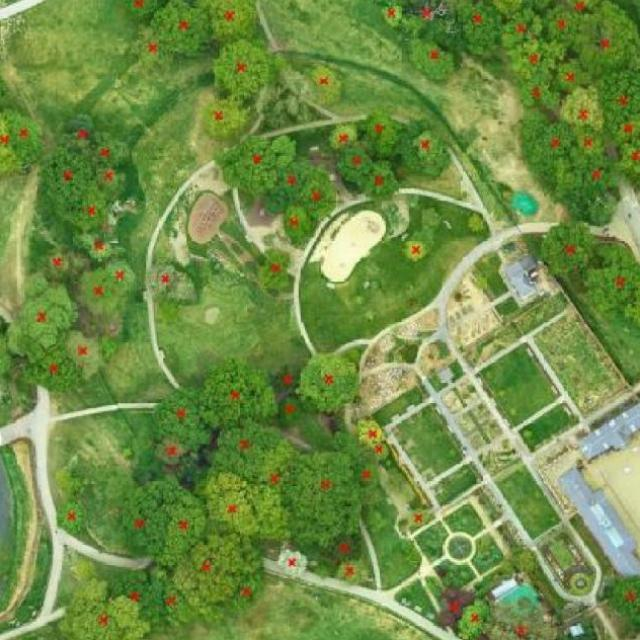tree: (282, 450, 360, 544), (198, 354, 278, 430), (8, 276, 80, 356), (56, 581, 148, 640), (212, 132, 294, 196), (583, 238, 640, 328), (204, 417, 286, 479), (174, 532, 239, 610), (251, 436, 297, 539), (152, 486, 205, 572), (193, 472, 260, 540), (212, 39, 288, 97), (104, 568, 172, 632), (573, 10, 637, 77), (294, 350, 360, 412), (148, 386, 213, 448), (121, 475, 167, 557), (11, 344, 83, 396), (151, 0, 214, 56), (480, 595, 557, 640), (35, 148, 91, 208), (394, 120, 448, 180), (540, 218, 594, 276), (521, 110, 570, 172), (194, 0, 266, 41), (596, 70, 640, 135), (64, 326, 116, 380), (551, 156, 615, 199), (225, 542, 263, 614), (3, 102, 46, 164), (601, 568, 640, 636), (263, 157, 310, 212), (406, 36, 458, 85), (354, 106, 401, 160), (456, 0, 499, 58), (27, 243, 84, 286), (144, 260, 196, 304), (507, 39, 565, 78), (201, 94, 249, 141), (130, 21, 173, 73), (559, 84, 604, 133), (62, 181, 104, 231), (300, 164, 335, 223), (75, 268, 118, 315), (403, 0, 452, 41), (50, 115, 99, 154), (435, 580, 474, 629), (0, 104, 24, 178), (497, 10, 541, 50), (359, 156, 398, 200), (539, 6, 576, 51), (86, 132, 128, 169), (257, 247, 291, 292), (158, 578, 189, 626), (458, 597, 492, 640), (305, 67, 341, 107), (324, 531, 364, 566), (281, 206, 313, 249), (519, 73, 557, 109), (618, 135, 640, 193), (55, 498, 86, 539), (333, 147, 370, 181), (105, 257, 137, 295), (78, 232, 123, 259), (552, 61, 586, 92), (327, 122, 364, 150), (0, 317, 15, 386), (92, 168, 125, 198), (611, 113, 640, 147), (274, 361, 304, 393), (276, 548, 309, 577), (494, 0, 549, 17), (574, 127, 606, 156), (152, 438, 186, 465), (275, 394, 302, 428), (333, 561, 368, 587), (354, 419, 384, 449), (586, 199, 616, 226), (353, 461, 380, 490), (121, 0, 167, 17), (406, 505, 435, 529), (381, 2, 404, 28), (403, 238, 428, 261), (561, 0, 602, 12), (467, 212, 489, 234), (370, 440, 391, 461)
